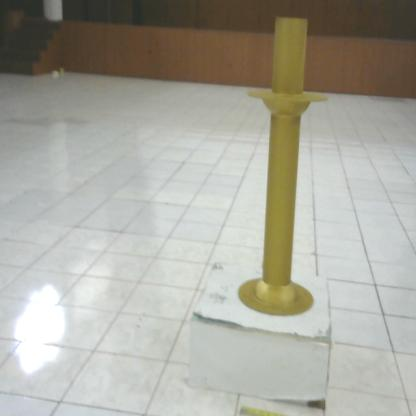pole: (235, 1, 333, 325)
